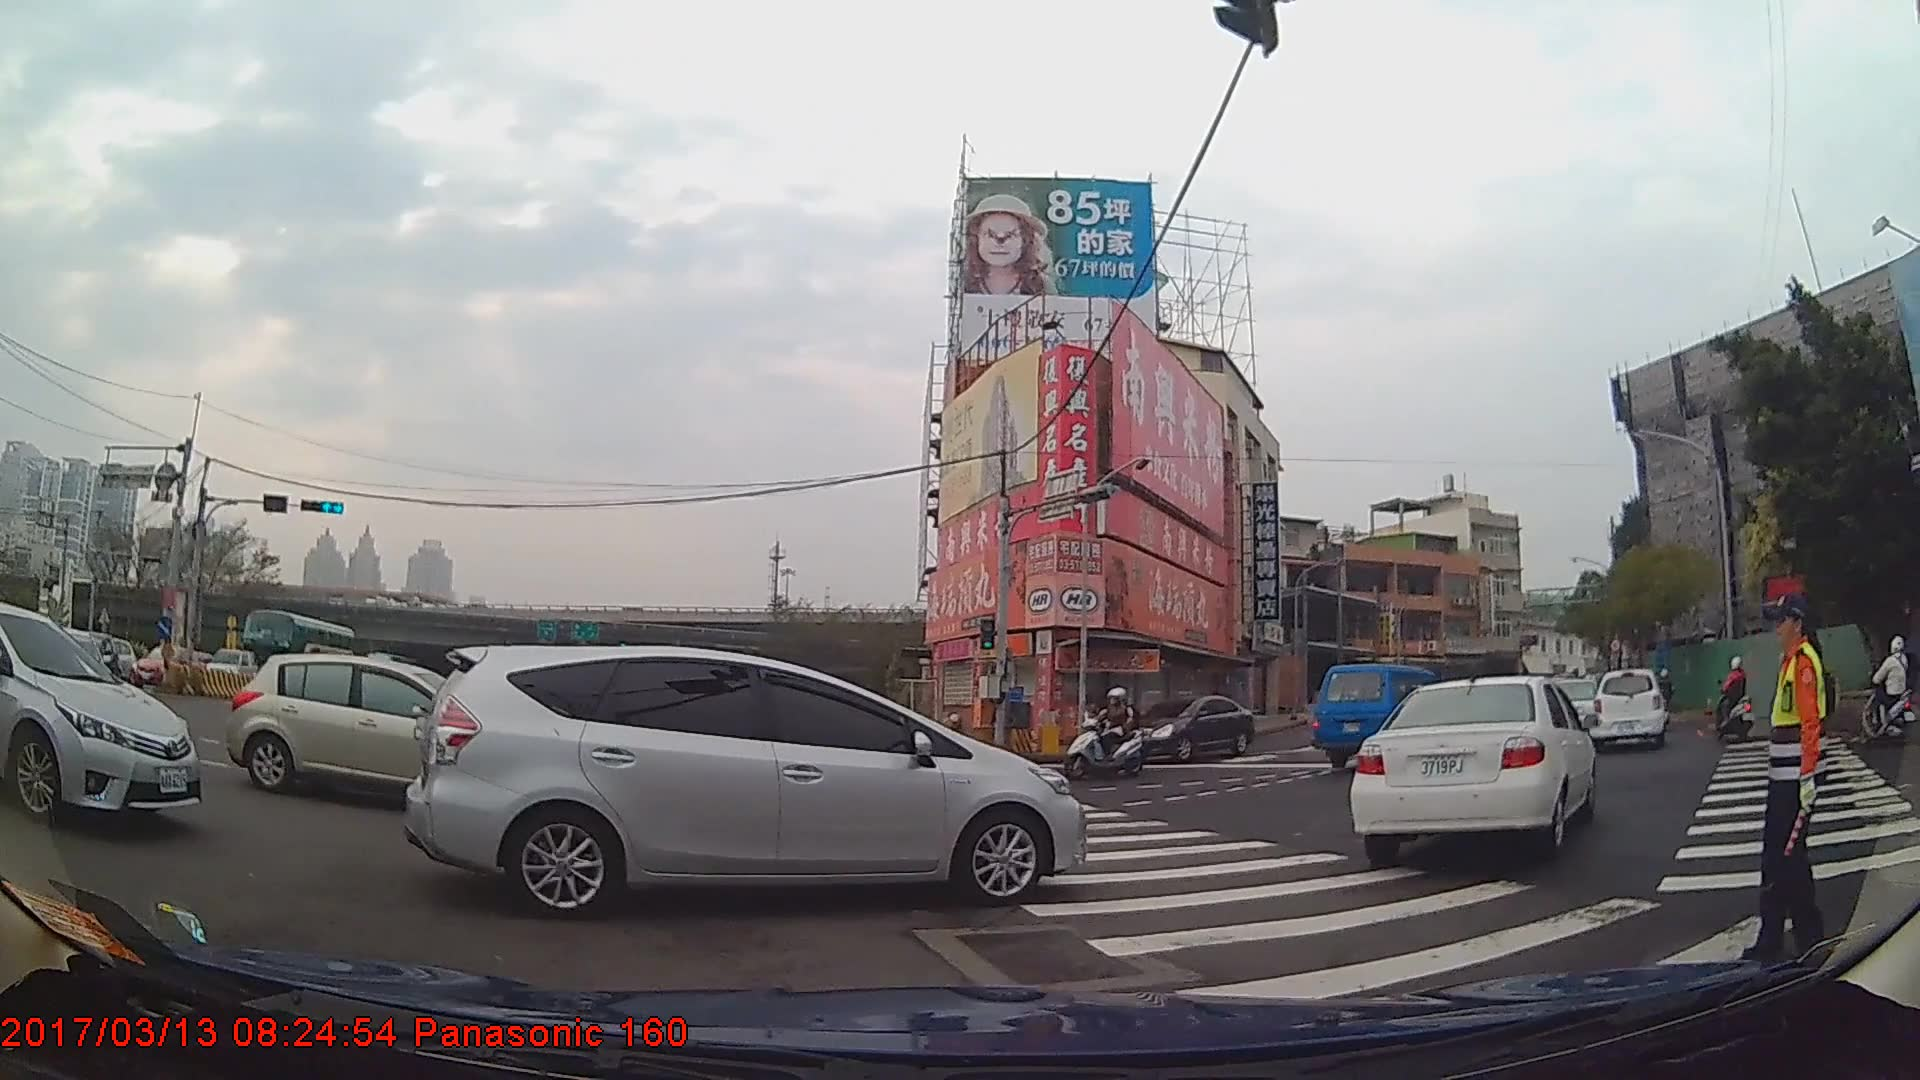pedestrian: (1746, 590, 1833, 957)
rider: (1066, 685, 1151, 779), (1859, 634, 1917, 746), (1714, 656, 1758, 745), (1656, 668, 1676, 732)
vehicle: (404, 642, 1089, 912), (1344, 672, 1594, 859), (229, 648, 517, 807), (0, 602, 201, 827), (1310, 662, 1453, 771), (241, 606, 357, 688), (1127, 694, 1251, 764), (1587, 666, 1665, 755), (127, 639, 206, 689), (204, 645, 257, 685)
